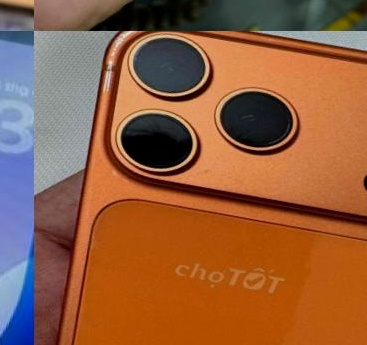scratch: (87, 31, 161, 108)
